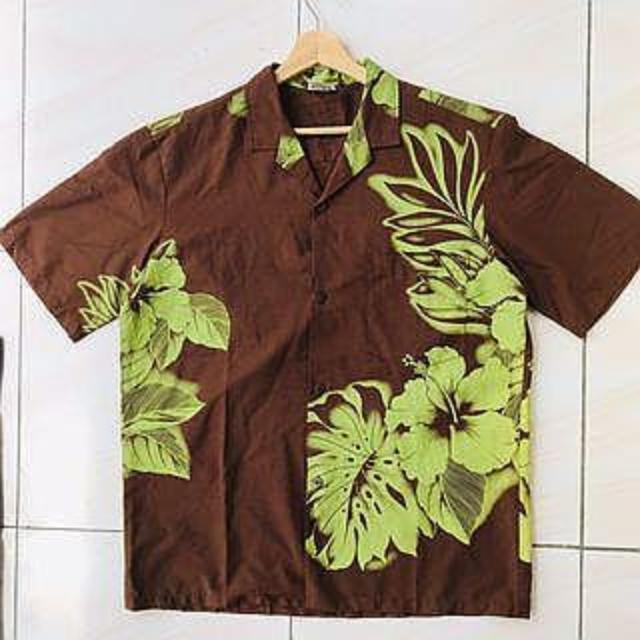SHIRT: (0, 34, 640, 623)
